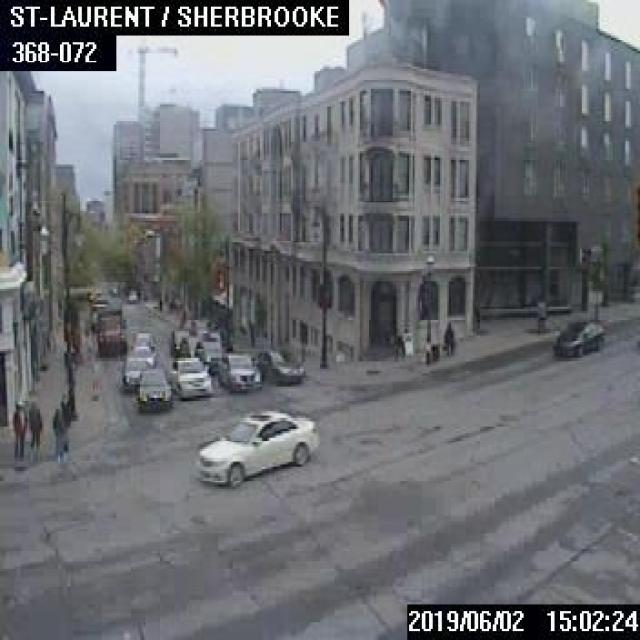pedestrian: (10, 398, 26, 459), (27, 399, 42, 460), (49, 405, 64, 460), (58, 391, 68, 450), (389, 329, 402, 362), (420, 331, 431, 365), (442, 320, 453, 353)
vehicle: (193, 408, 318, 486), (549, 316, 607, 356), (217, 352, 260, 391), (258, 347, 303, 383), (171, 356, 211, 396), (135, 365, 170, 409), (95, 312, 125, 352), (194, 338, 226, 372), (121, 355, 148, 391), (168, 328, 190, 354), (130, 343, 154, 366), (177, 335, 200, 356), (190, 318, 212, 336), (133, 330, 153, 349), (126, 289, 137, 302)
